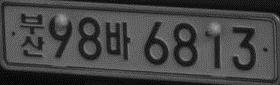1: (200, 23, 227, 70)
3: (230, 26, 257, 72)
6: (143, 21, 169, 65)
8: (171, 22, 198, 67), (77, 16, 102, 61)
9: (47, 14, 73, 58)
바: (104, 21, 131, 60)
부산_V: (18, 12, 45, 57)
